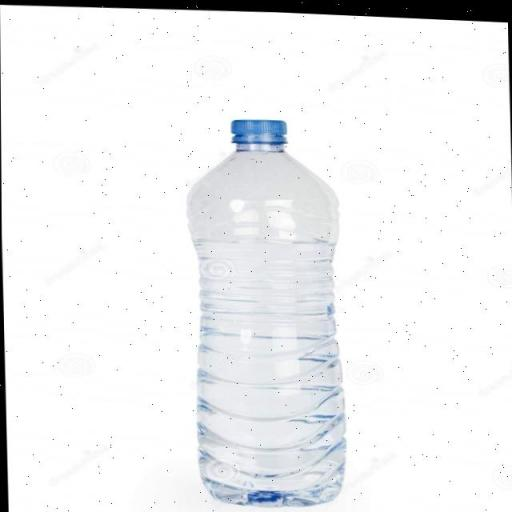plastic: (165, 105, 364, 512)
